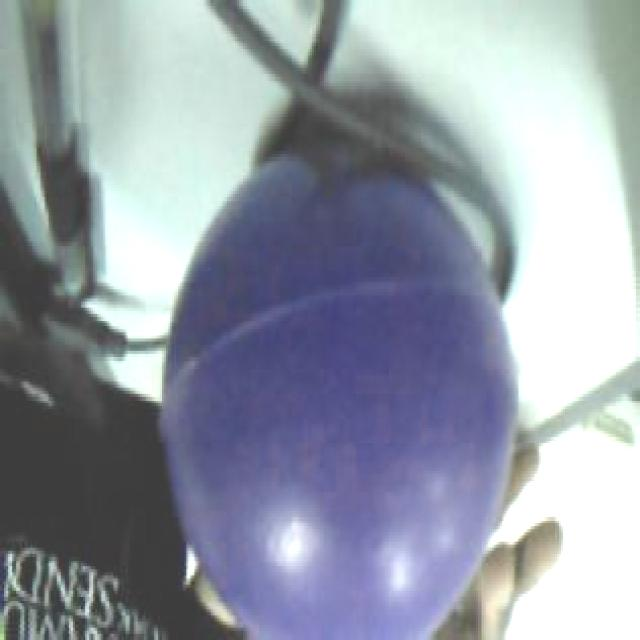BallPurple: (161, 144, 514, 640)
